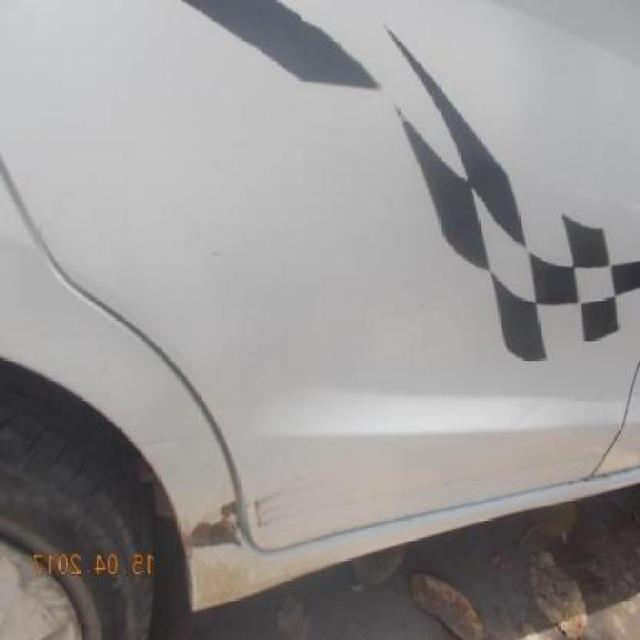damage: (247, 460, 558, 532), (181, 498, 242, 570), (251, 491, 270, 530)
